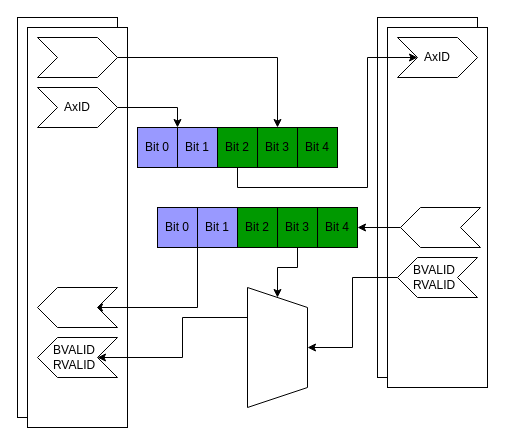
This 505x445 diagram has some shape labels left out. The centre of each missing label's shape, as x and y in pixels:
"BID/RID" goes at point 77,307.
"Decoder" goes at point 277,347.
"Master's number" goes at point 77,57.
"xID" goes at point 440,227.
